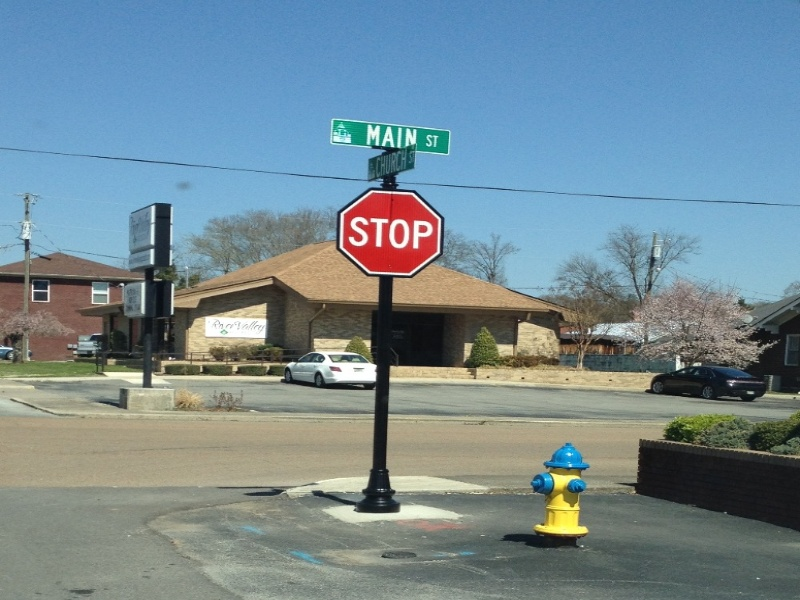stop sign: (333, 187, 446, 283)
